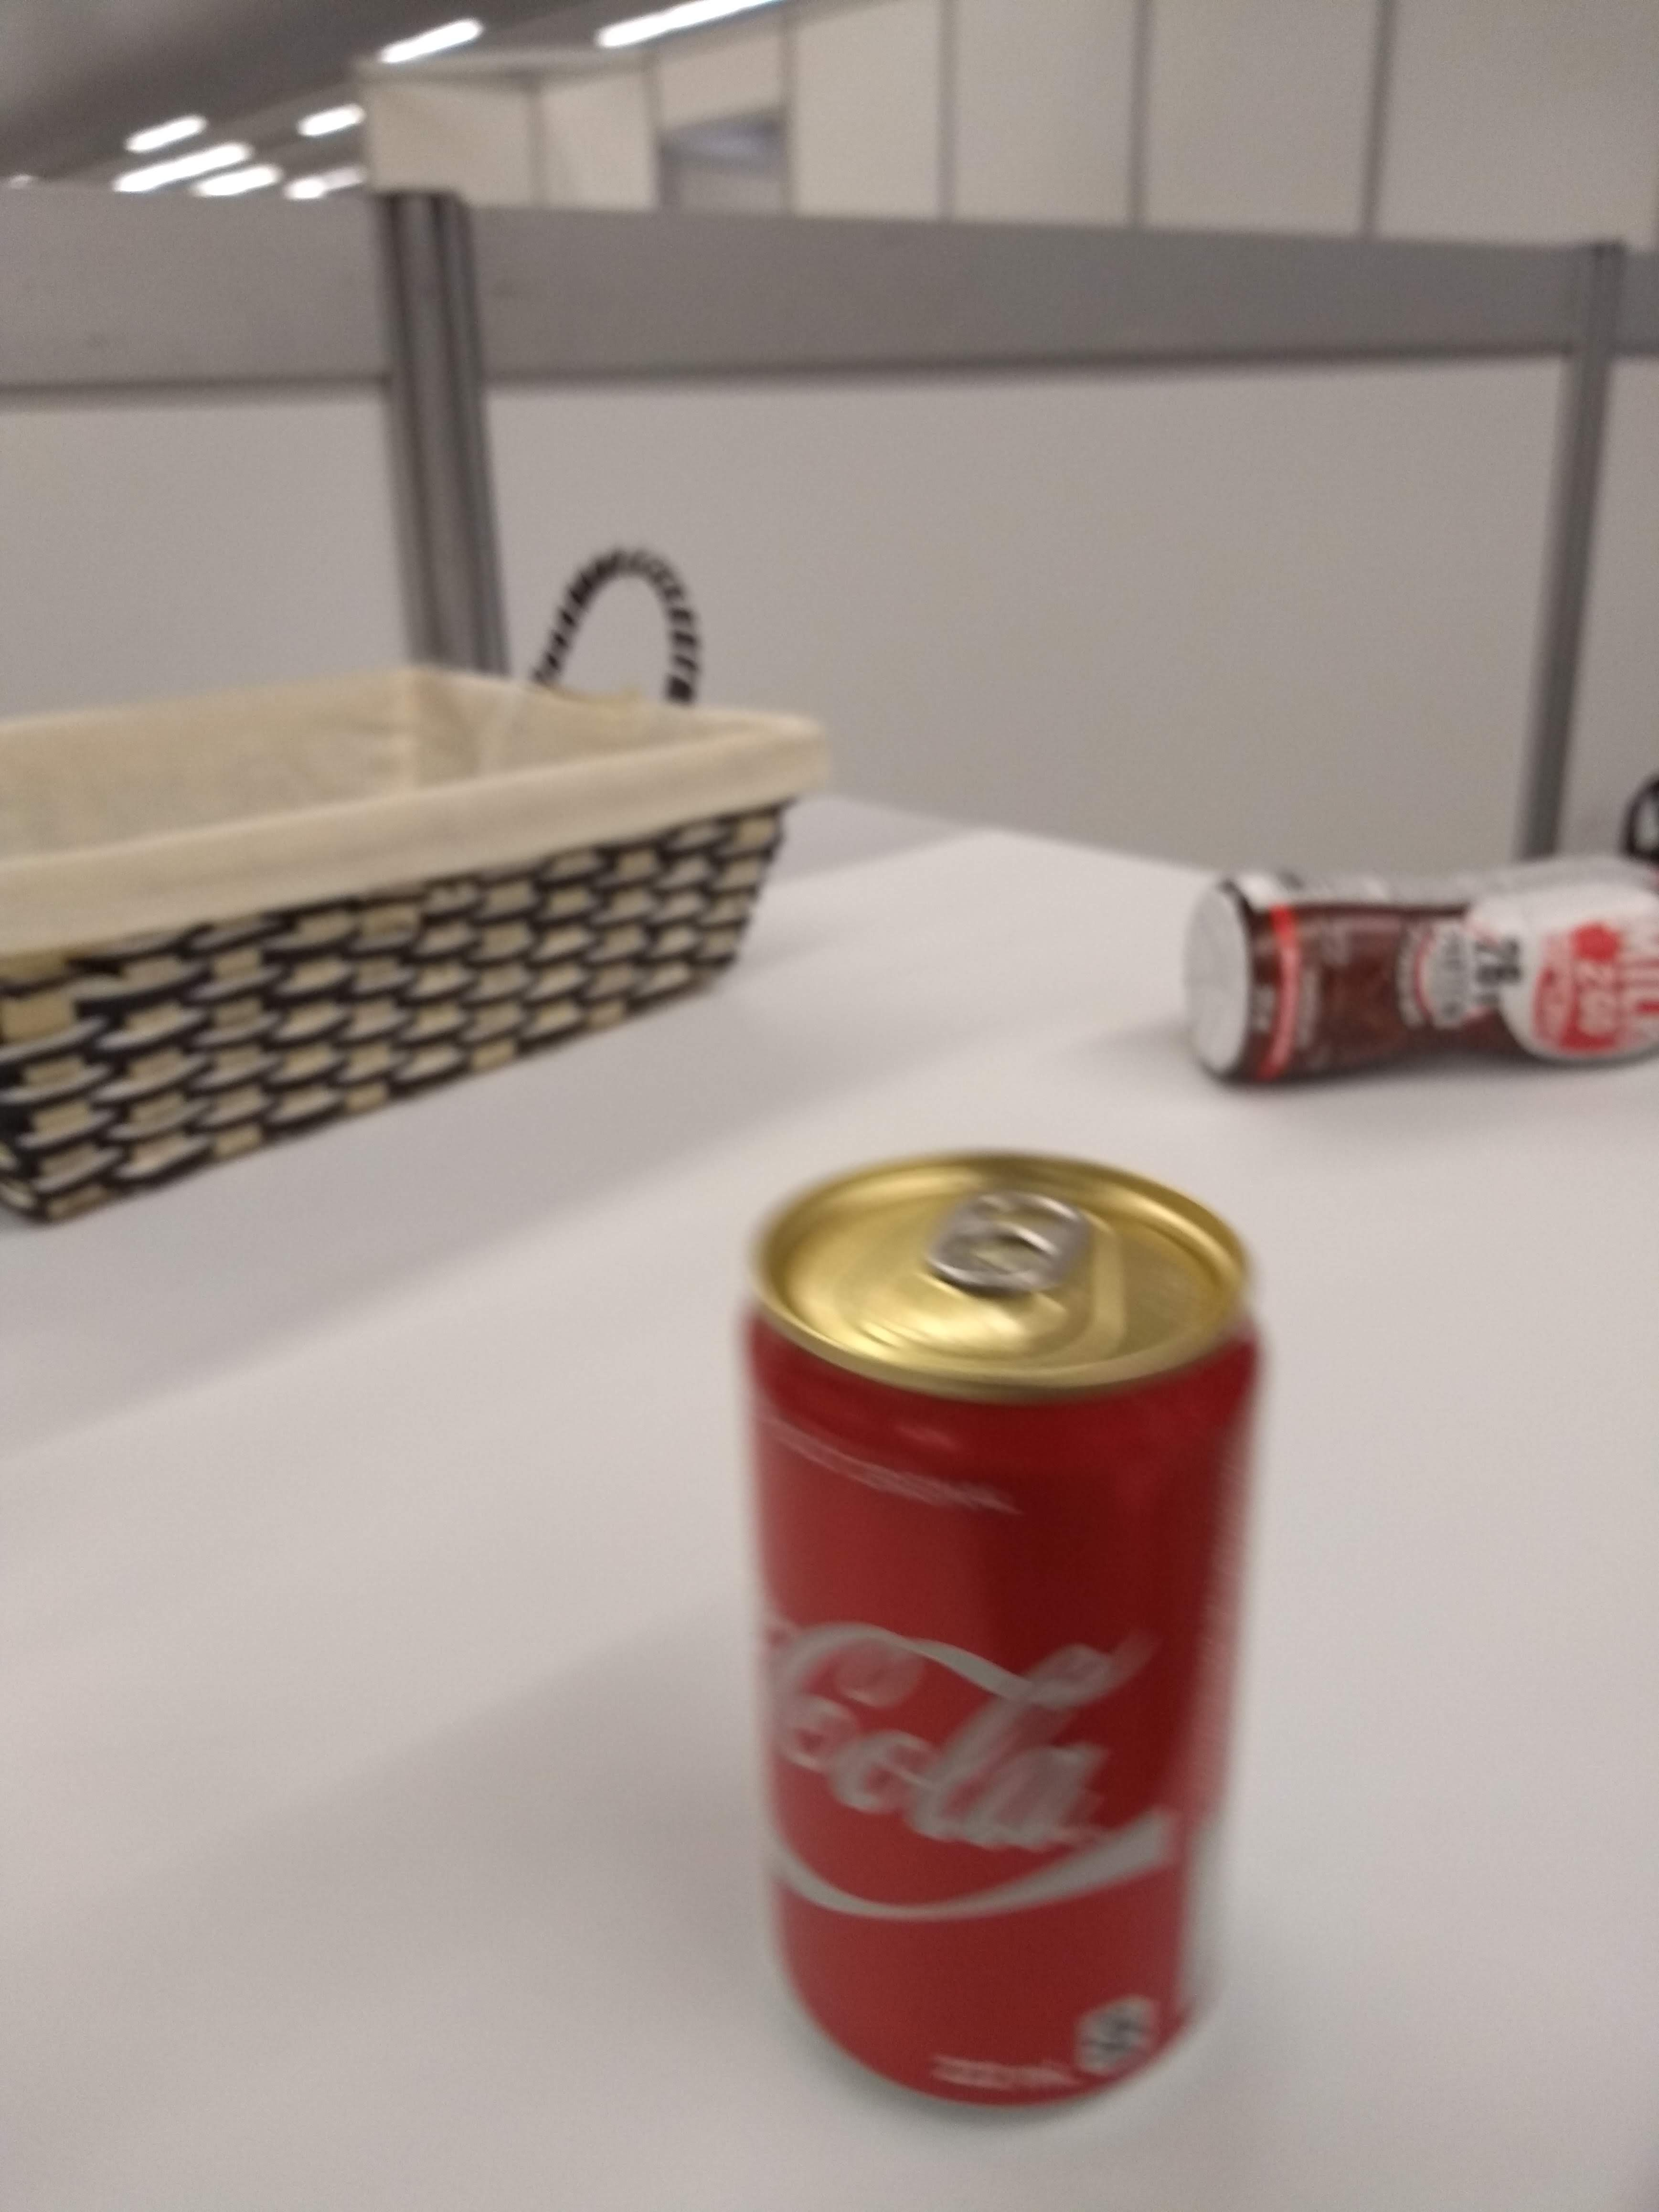chocolate_drink: (1159, 820, 1659, 1109)
coke: (708, 1125, 1284, 2141)
